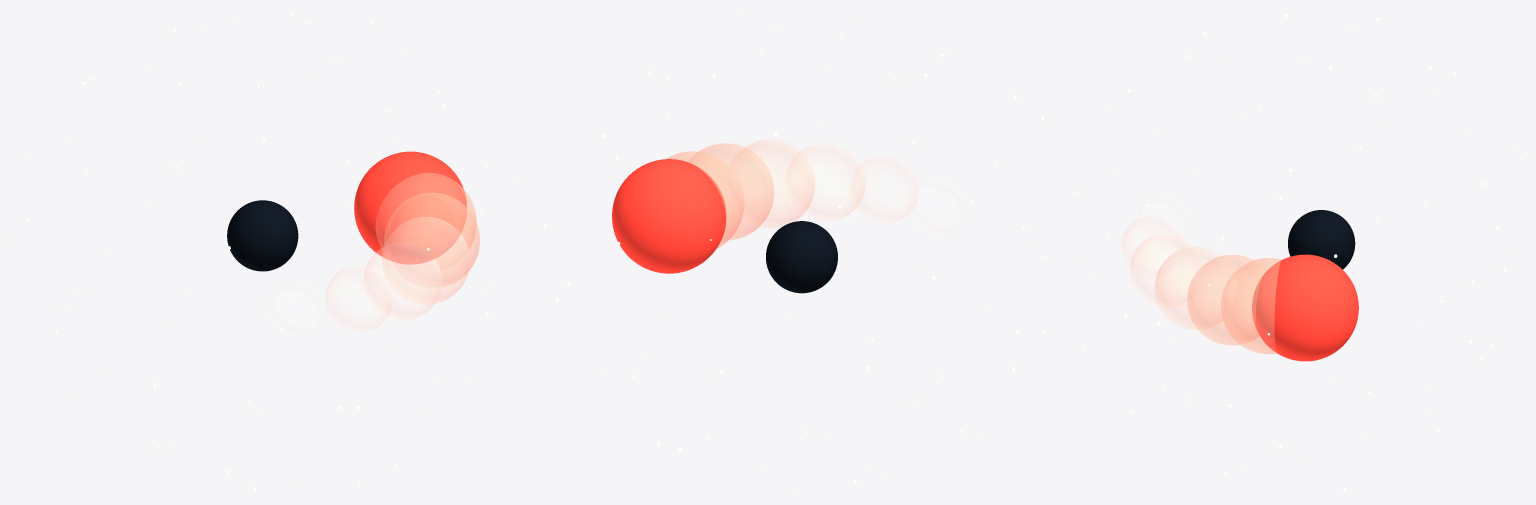
The model's file is sunholo_spacetime_ghosts_starfield.glb.
The picture shows the model from 3 angles, left to right: view 1: azimuth 30°, elevation 25°; view 2: azimuth 150°, elevation 25°; view 3: azimuth 270°, elevation 25°; orthographic projection. The views are drawn at different scales.
Parts seen in each view (by area): view 1: Sun Front Red, Spacetime Ghost 02, Spacetime Ghost 03, Spacetime Ghost 01, Spacetime Ghost 04, Event Horizon, Spacetime Ghost 05, Spacetime Ghost 06; view 2: Sun Front Red, Spacetime Ghost 03, Spacetime Ghost 04, Spacetime Ghost 02, Event Horizon, Spacetime Ghost 05, Spacetime Ghost 06, Spacetime Ghost 01; view 3: Sun Front Red, Spacetime Ghost 02, Spacetime Ghost 03, Spacetime Ghost 01, Spacetime Ghost 04, Event Horizon, Spacetime Ghost 05, Spacetime Ghost 06.
Part boxes in pixels (left/top/right/bottom): Sun Front Red: left=354, top=151, right=466, bottom=264; Spacetime Ghost 02: left=384, top=193, right=479, bottom=286; Spacetime Ghost 03: left=382, top=217, right=469, bottom=304; Spacetime Ghost 01: left=376, top=173, right=476, bottom=256; Spacetime Ghost 04: left=363, top=242, right=441, bottom=320; Event Horizon: left=227, top=200, right=298, bottom=271; Spacetime Ghost 05: left=325, top=265, right=392, bottom=332; Spacetime Ghost 06: left=269, top=283, right=322, bottom=335; Sun Front Red: left=612, top=159, right=726, bottom=273; Spacetime Ghost 03: left=730, top=139, right=814, bottom=228; Spacetime Ghost 04: left=786, top=142, right=865, bottom=221; Spacetime Ghost 02: left=688, top=143, right=773, bottom=240; Event Horizon: left=766, top=221, right=837, bottom=293; Spacetime Ghost 05: left=851, top=155, right=918, bottom=223; Spacetime Ghost 06: left=911, top=181, right=964, bottom=234; Spacetime Ghost 01: left=666, top=151, right=743, bottom=248; Sun Front Red: left=1252, top=254, right=1358, bottom=361; Spacetime Ghost 02: left=1187, top=254, right=1266, bottom=345; Spacetime Ghost 03: left=1154, top=247, right=1234, bottom=329; Spacetime Ghost 01: left=1221, top=258, right=1281, bottom=354; Spacetime Ghost 04: left=1130, top=233, right=1203, bottom=307; Event Horizon: left=1288, top=210, right=1355, bottom=269; Spacetime Ghost 05: left=1121, top=215, right=1184, bottom=278; Spacetime Ghost 06: left=1138, top=195, right=1188, bottom=234.
Size of the model in its own units: 6.42 by 6.33 by 6.1.
